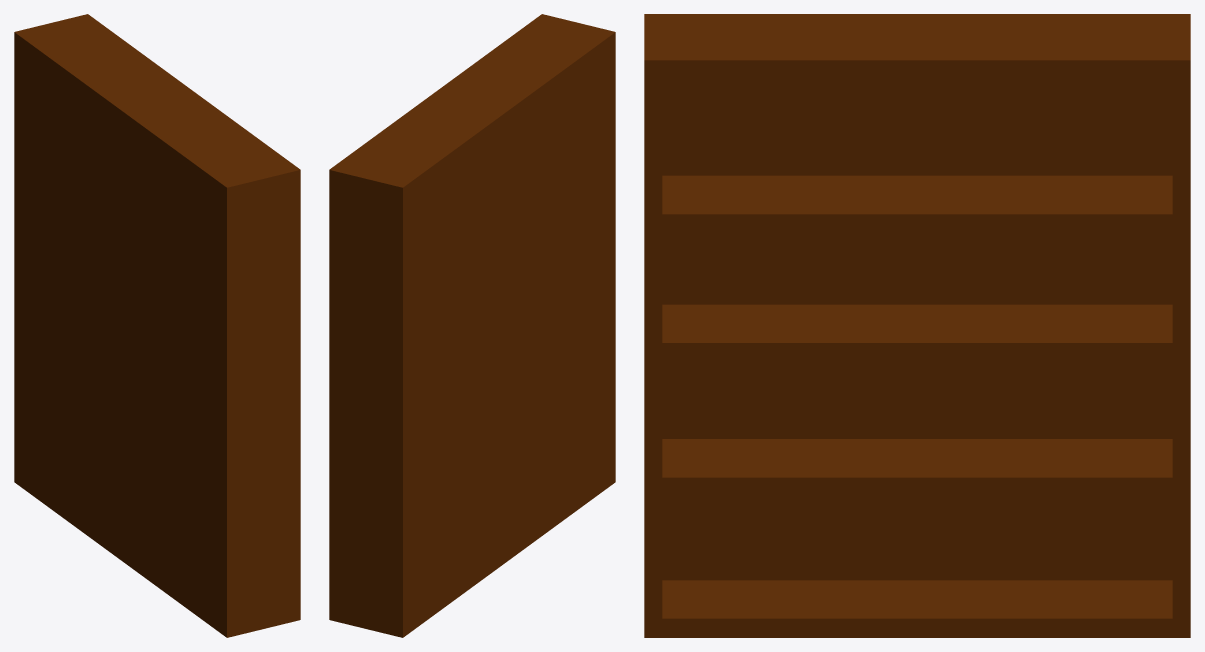
File: Library.fbx
3 renders of one model, left to right at view 1: azimuth 30°, elevation 25°; view 2: azimuth 150°, elevation 25°; view 3: azimuth 270°, elevation 25°, orthographic. The views are drawn at different scales.
Parts seen in each view (by area): view 1: Cube.006, Cube, Cube.005, Cube.001, Cube.004, Cube.002, Cube.003; view 2: Cube.006, Cube.007, Cube.005, Cube.001, Cube.004, Cube.002, Cube.003; view 3: Cube.006, Cube.005, Cube.001, Cube.004, Cube.002, Cube.003, Cube, Cube.007.
Part boxes in pixels (x1,y1,x2,y2): Cube.006: (14, 47, 239, 622); Cube: (239, 185, 300, 619); Cube.005: (14, 14, 300, 202); Cube.001: (14, 467, 300, 637); Cube.004: (14, 152, 300, 318); Cube.002: (14, 357, 300, 522); Cube.003: (14, 252, 300, 417); Cube.006: (390, 47, 615, 622); Cube.007: (329, 185, 390, 619); Cube.005: (329, 14, 615, 202); Cube.001: (329, 467, 615, 637); Cube.004: (329, 152, 615, 318); Cube.002: (329, 357, 615, 522); Cube.003: (329, 252, 615, 417); Cube.006: (662, 79, 1172, 580); Cube.005: (644, 14, 1190, 79); Cube.001: (644, 580, 1190, 637); Cube.004: (644, 175, 1190, 227); Cube.002: (644, 439, 1190, 490); Cube.003: (644, 304, 1190, 355); Cube: (644, 79, 662, 618); Cube.007: (1172, 79, 1190, 618).
Bounding box in the file's own units: 120 × 700 × 600.
